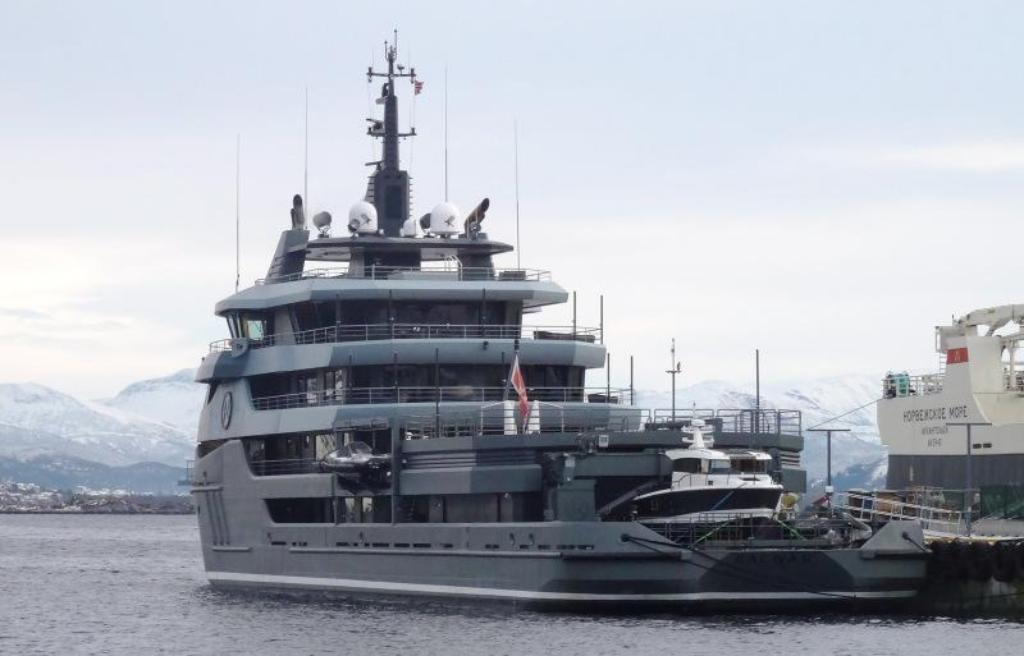PassengerShip: (185, 27, 937, 623)
